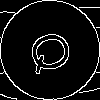Q: (25, 25, 83, 77)
